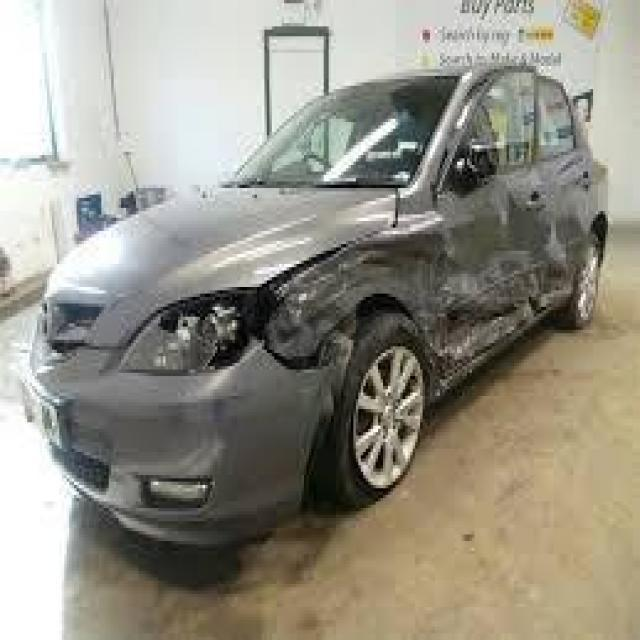damaged: (402, 188, 584, 392), (158, 244, 358, 376), (341, 218, 462, 324)
